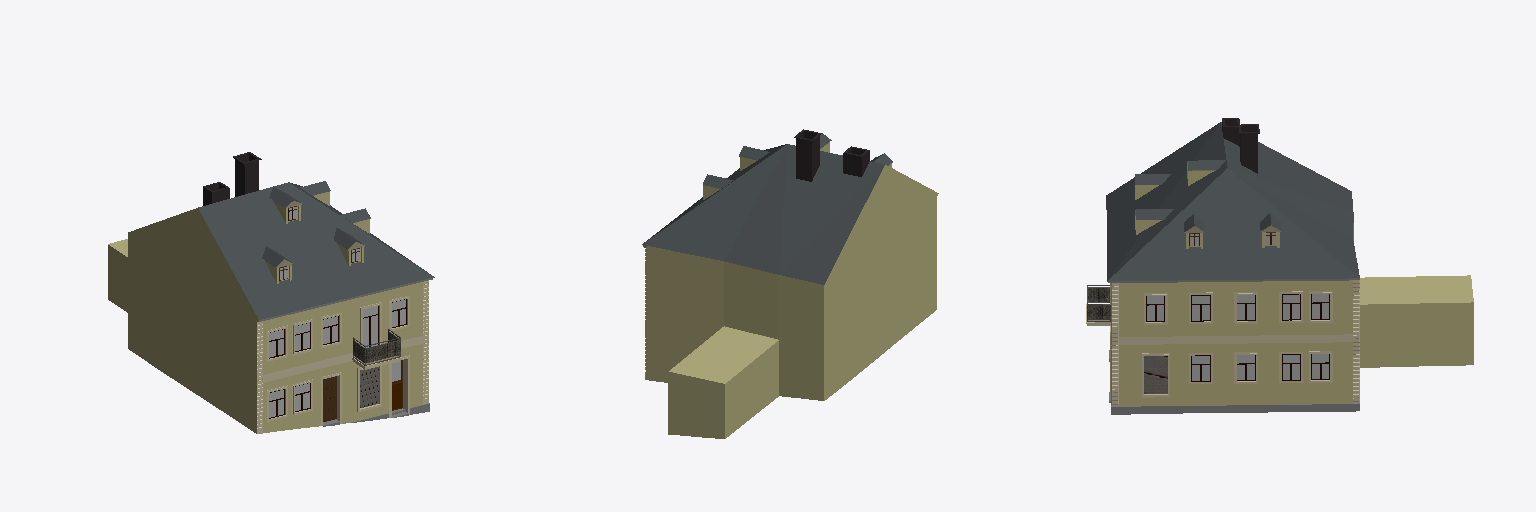
3 renders of one model, left to right at view 1: azimuth 30°, elevation 25°; view 2: azimuth 150°, elevation 25°; view 3: azimuth 270°, elevation 25°, orthographic.
Visible parts, largest first — view 1: Mesh01, Mesh02; view 2: Mesh01; view 3: Mesh01, Mesh02.
Part boxes in pixels (x1,y1,x2,y2): Mesh01: (108, 152, 434, 433); Mesh02: (269, 187, 301, 223); Mesh01: (642, 129, 938, 438); Mesh01: (1086, 118, 1473, 414); Mesh02: (1187, 160, 1225, 185).
Bounding box in the file's own units: 1.23 × 1.47 × 2.23.
16 materials, 2 textured.